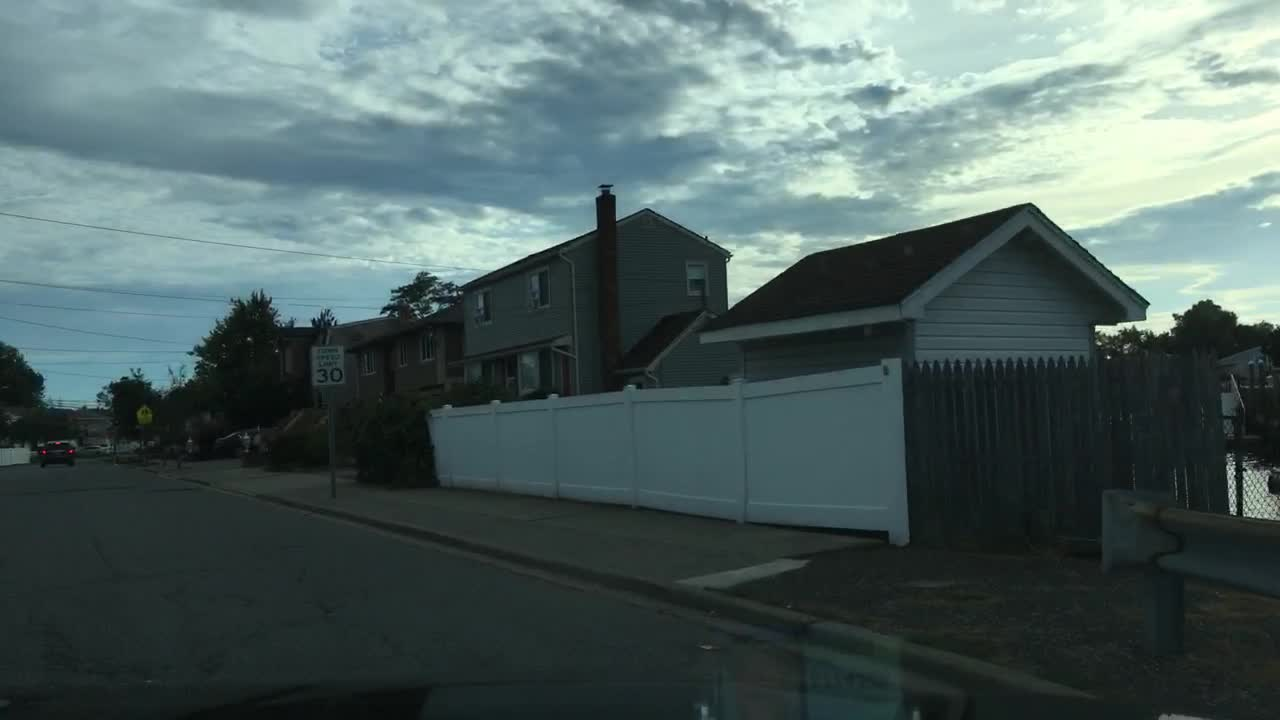car: (212, 426, 261, 459), (37, 440, 75, 466), (80, 443, 107, 456)
traffic sign: (314, 342, 342, 383), (134, 403, 152, 425)
